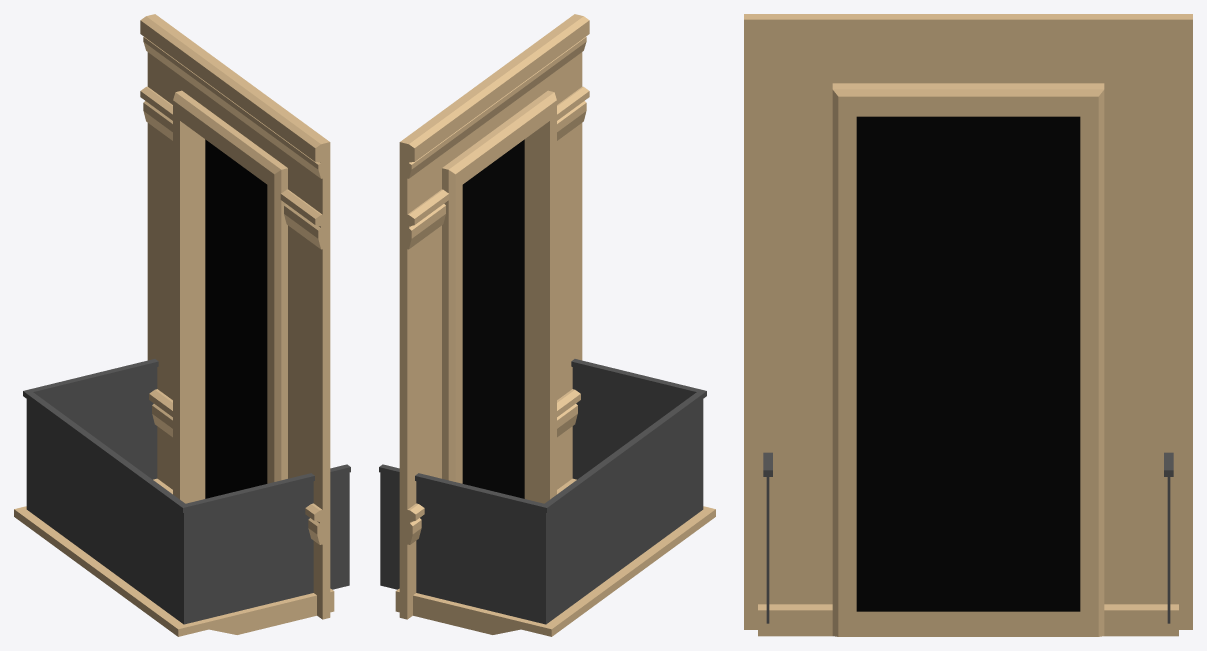
File: 2_Balcony_2_A.fbx
The picture shows the model from 3 angles, left to right: view 1: azimuth 30°, elevation 25°; view 2: azimuth 150°, elevation 25°; view 3: azimuth 270°, elevation 25°; orthographic projection. The views are drawn at different scales.
Visible parts, largest first — view 1: Balcony_2_A; view 2: Balcony_2_A; view 3: Balcony_2_A.
Boxes of the visible parts, x1,y1,x2,y2 form: Balcony_2_A: [14, 14, 350, 636]; Balcony_2_A: [379, 14, 715, 636]; Balcony_2_A: [744, 14, 1192, 636].
Bounding box in the file's own units: 115 × 200 × 300.
